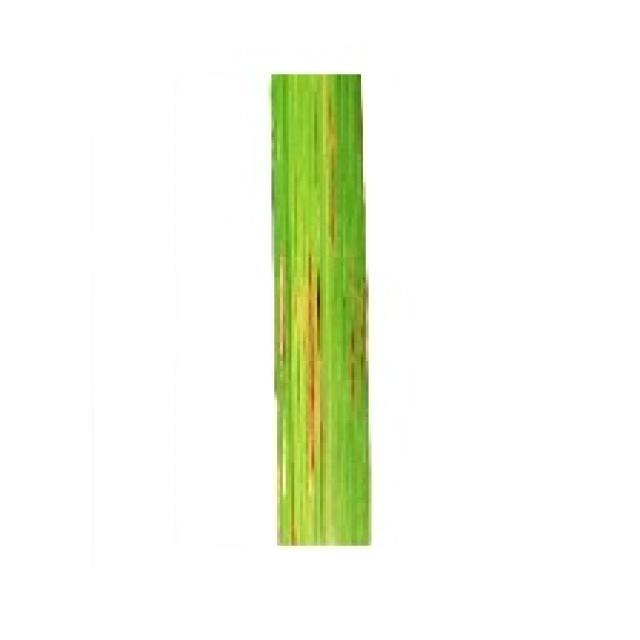Unhealthy: (295, 247, 331, 484), (320, 93, 340, 257), (350, 262, 368, 410)
